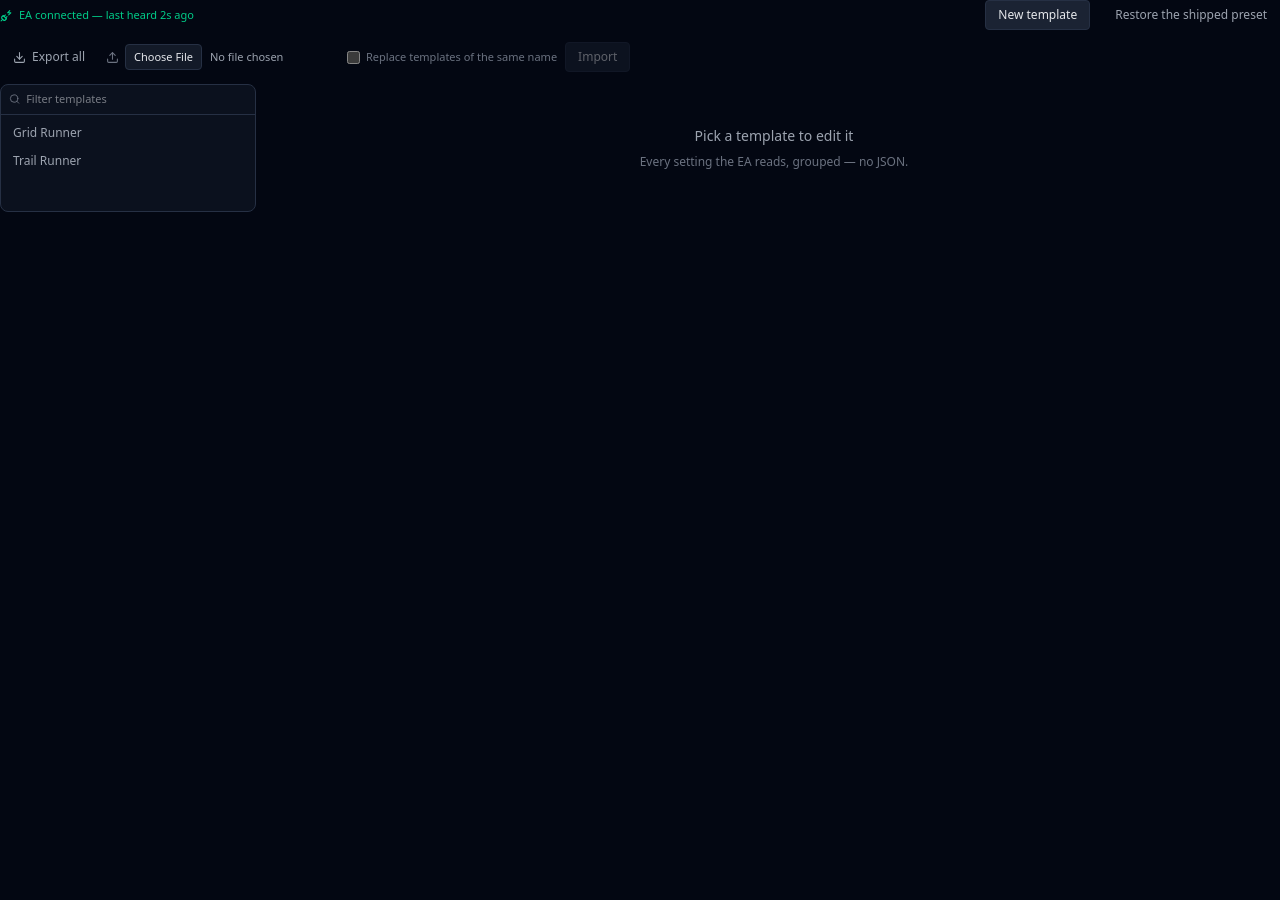
Scenario: the rename control › names the template it will rename
Click the button "Grid Runner".
click(128, 132)  # box [5,118,251,146]
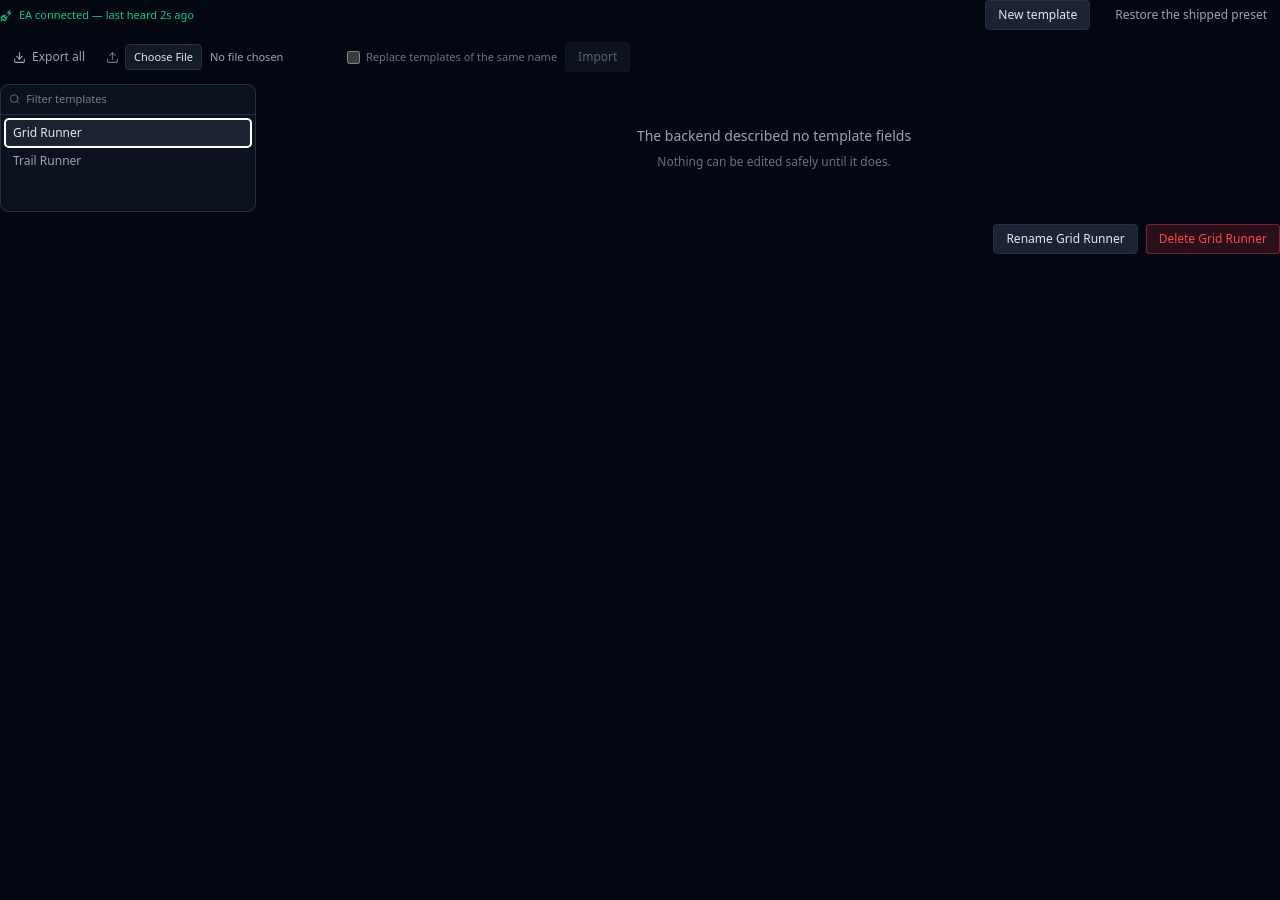
Click the button "Rename Grid Runner".
click(1066, 239)  # box [993,224,1138,254]
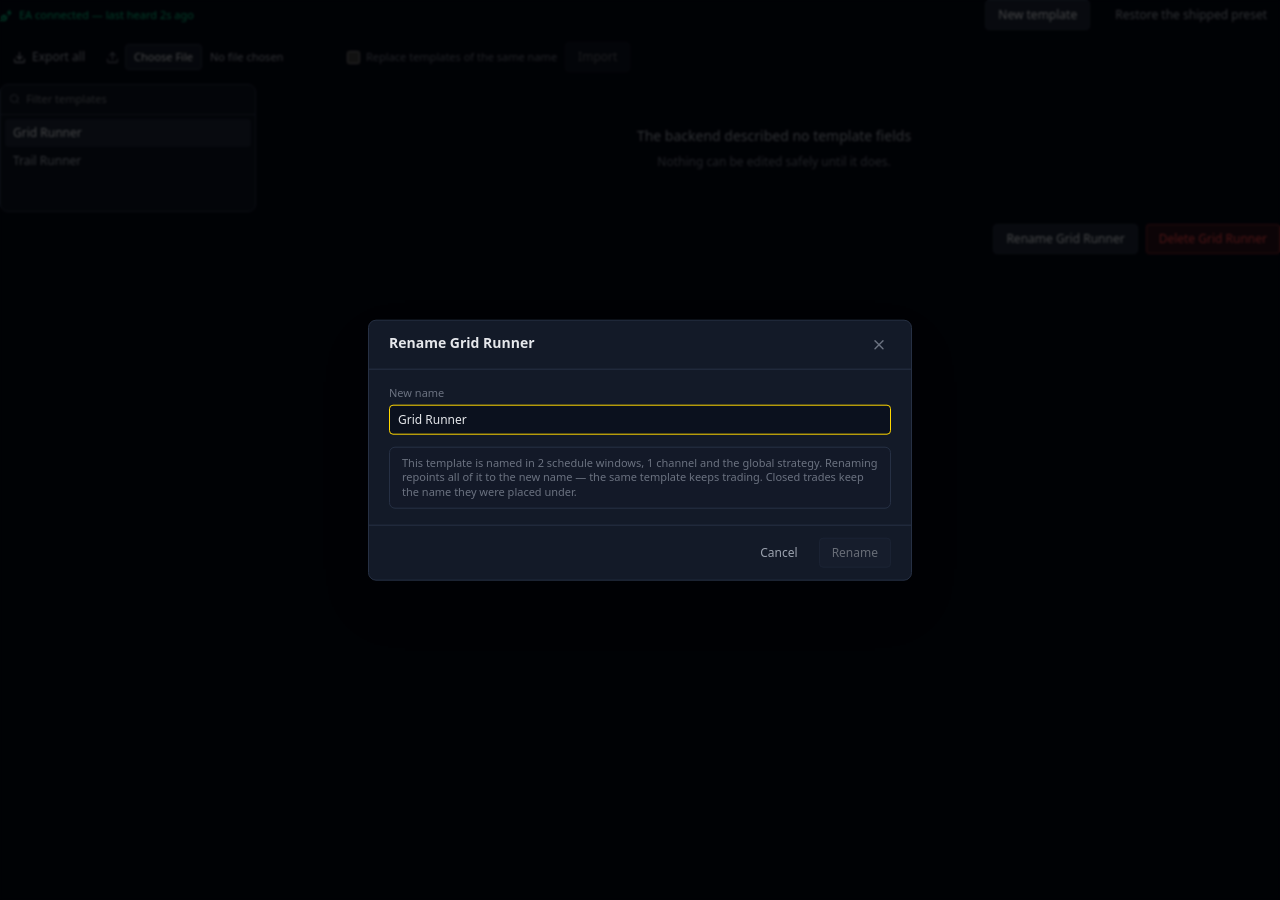
Expected: the heading "Rename Grid Runner" is shown, [389,333,535,353]
